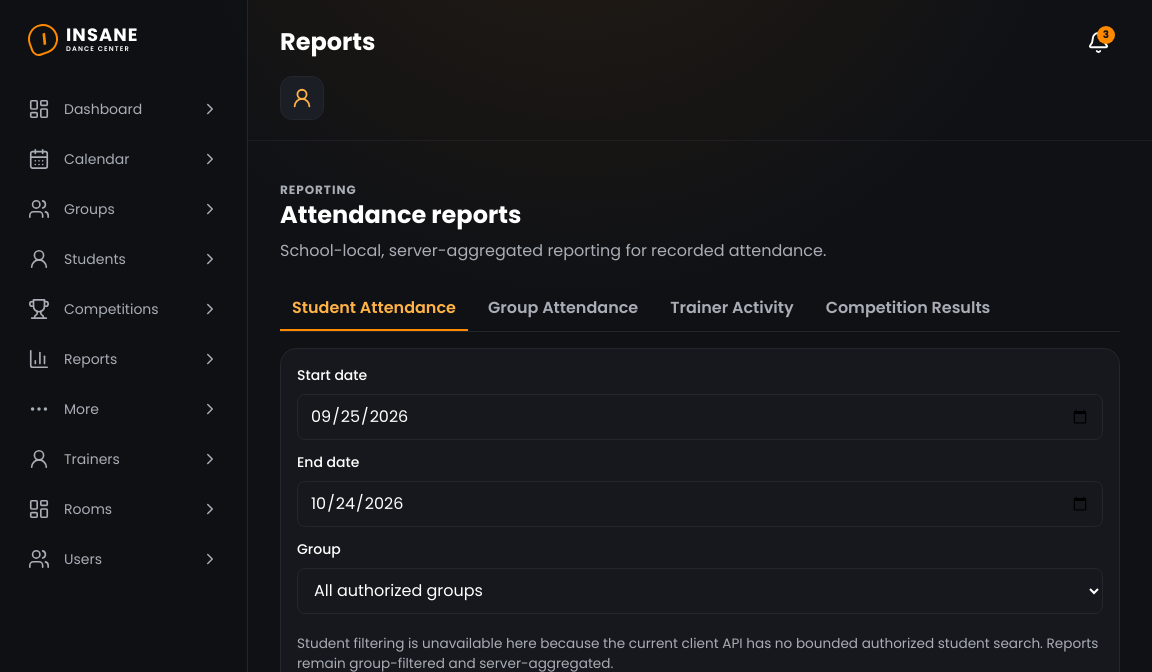
Test case: ReportsPage › blocks both table reports when an applied range exceeds 366 inclusive days
Click the tab "Group Attendance" at (563, 309), box [476, 287, 650, 331]
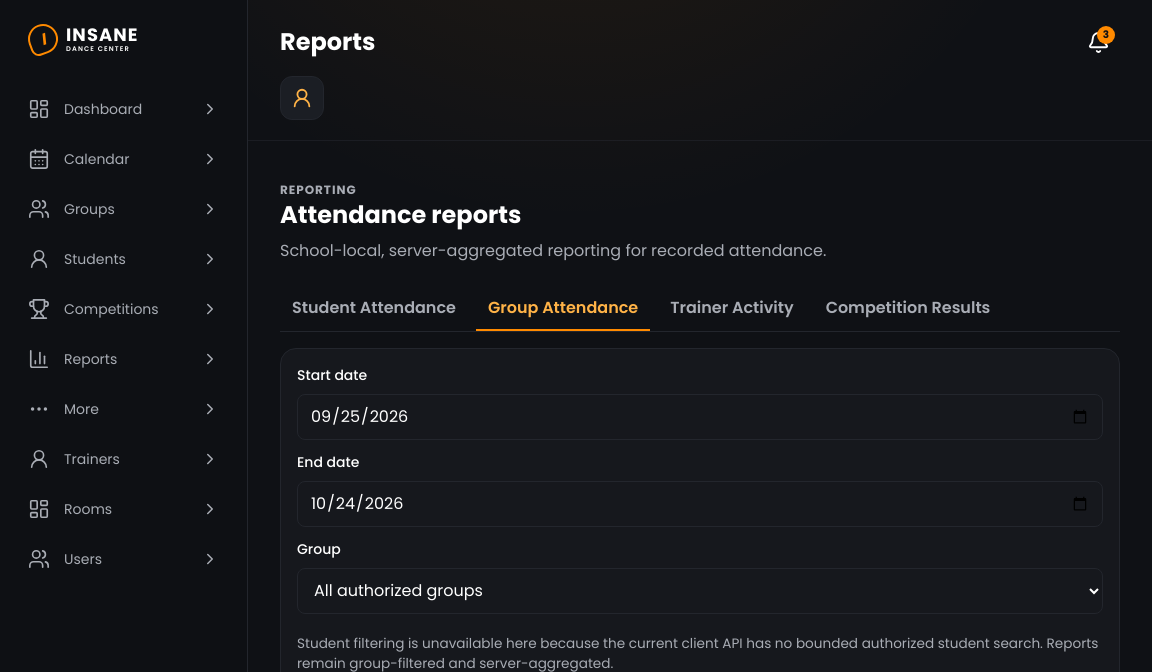
Type "2026-01-01" into the date field labelled "Start date" at (700, 417), box [297, 394, 1103, 440]
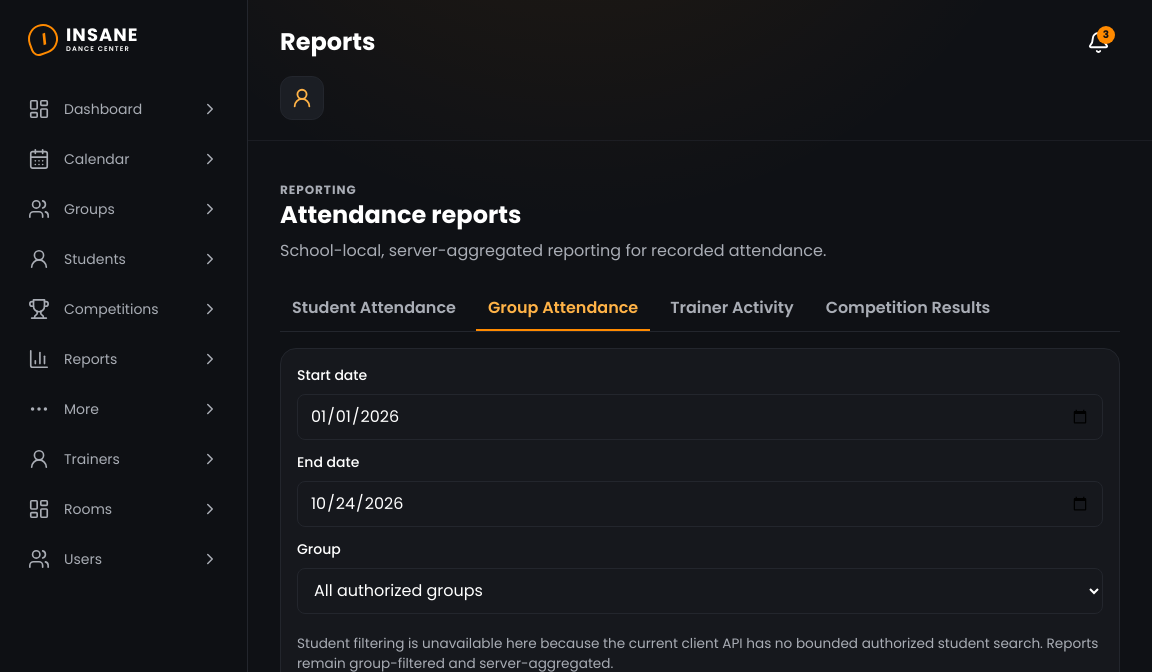
Type "2027-01-02" into the date field labelled "End date" at (700, 504), box [297, 481, 1103, 527]
(page scrolled)
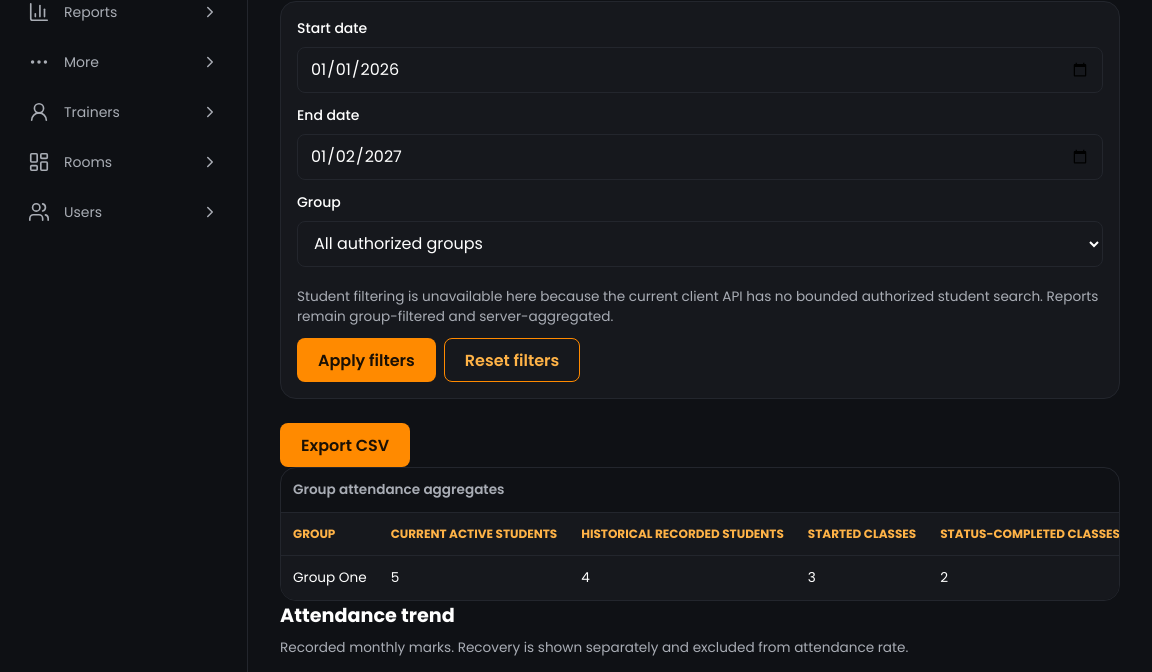
Click the button "Apply filters" at (366, 360), box [297, 338, 436, 382]
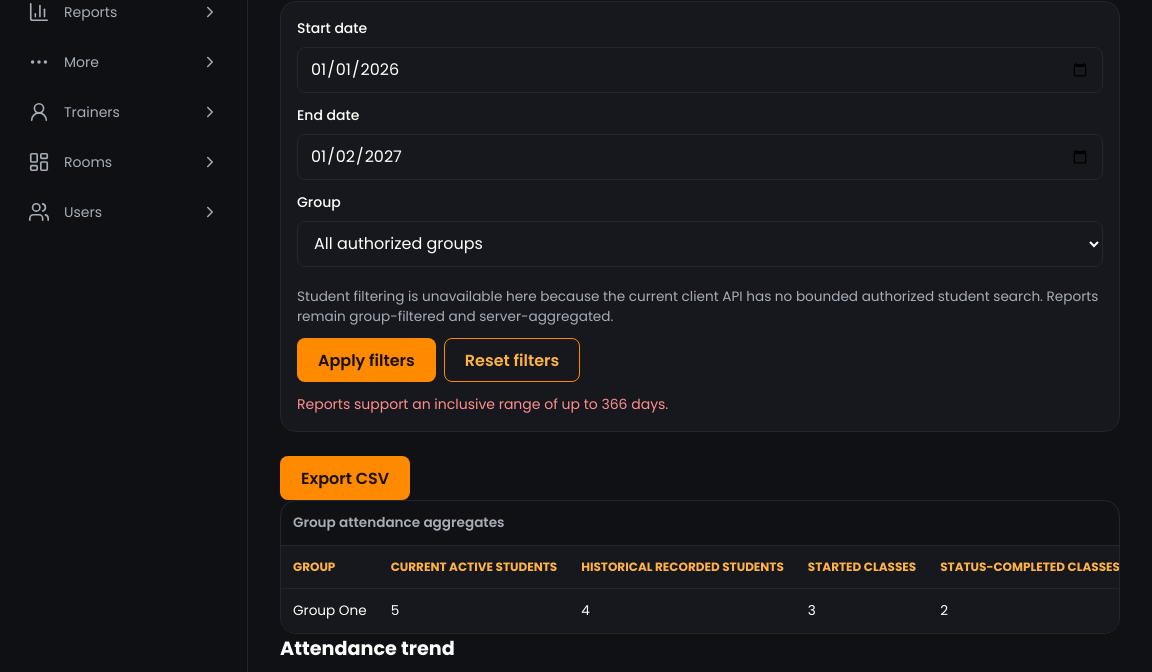
expect the message reads "Reports support an inclusive range of up to 366 days.": met, box [297, 394, 668, 414]
